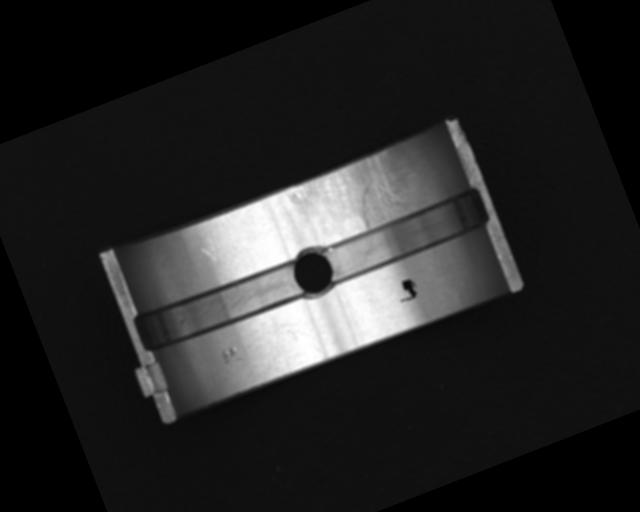blot: (394, 276, 421, 304)
bruise: (219, 346, 240, 366)
gap: (132, 257, 306, 356), (315, 187, 489, 286)
hole: (287, 240, 342, 302)
nick: (201, 240, 235, 286)
scratch: (288, 148, 416, 250)
